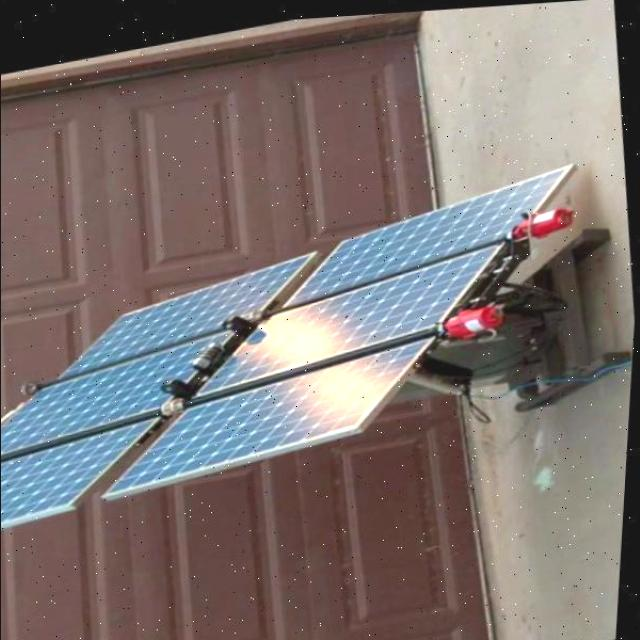Normal Solar Panel: (98, 336, 444, 492), (196, 243, 510, 385), (280, 162, 586, 300), (55, 245, 328, 368), (0, 328, 237, 454), (1, 411, 170, 534)
